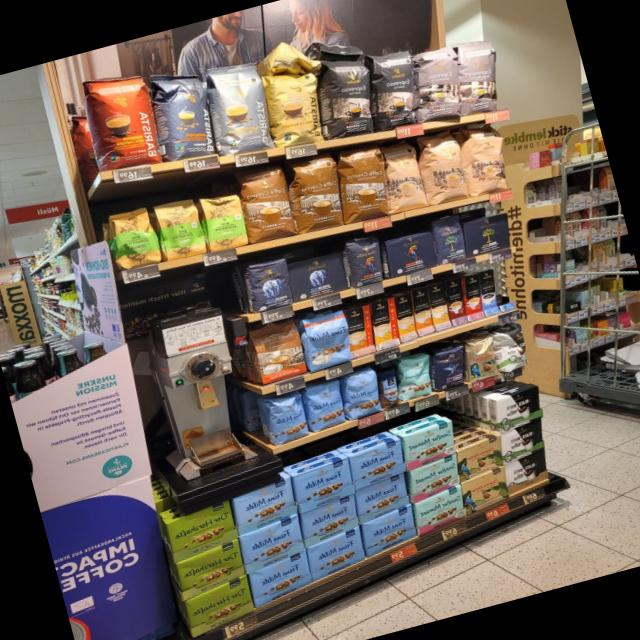AB Bohne: (245, 256, 293, 314)
AB Gemahlen: (287, 249, 348, 303)
Athiopien Bohne: (105, 206, 162, 272)
Athiopien Gemahlen: (154, 196, 208, 262), (197, 188, 250, 252)
BM Bohne: (432, 212, 469, 266)
BM Gemahlen: (463, 211, 511, 258)
BW Bohne: (494, 321, 529, 374)
BW Gemahlen: (496, 384, 541, 433), (500, 417, 545, 466), (504, 449, 548, 495)
Barista CB: (264, 69, 325, 147)
Barista CC: (204, 58, 274, 156)
Barista Espresso: (155, 69, 219, 160)
Barista Kolumbien: (83, 69, 164, 171)
C Fino Bohne: (434, 343, 466, 393)
CC Mild: (415, 128, 472, 204), (459, 120, 510, 195), (381, 136, 430, 214)
CC Vollmundig: (248, 319, 308, 386)
CC Vollmundig 36 Pads: (232, 165, 300, 246), (289, 150, 345, 234), (337, 143, 391, 225)
Colombia BB Bohne: (465, 334, 499, 383)
Colombia BB Gemahlen: (456, 433, 503, 482)
Espresso Aromatisch: (413, 42, 464, 121)
Espresso Kraftig: (319, 57, 377, 138), (366, 47, 419, 131)
Espresso M Art: (456, 37, 500, 115)
FM 36 Pads: (299, 307, 352, 373), (376, 368, 401, 409)
FM Bohne: (265, 391, 311, 447), (301, 377, 346, 433), (342, 366, 384, 422)
FM Gemahlen: (239, 513, 304, 574), (233, 475, 298, 536), (248, 548, 313, 608), (292, 455, 354, 514), (305, 526, 365, 582), (300, 493, 358, 548), (348, 437, 406, 491), (361, 502, 416, 557), (354, 472, 410, 524)
Herzhatfe Mundig: (184, 574, 254, 639), (167, 499, 238, 563), (175, 538, 245, 601)
LG Bohne: (344, 233, 385, 289)
LG Gemahlen: (386, 229, 437, 279)
SM Bohne: (397, 352, 434, 402)
SM Gemahlen: (403, 419, 455, 471), (415, 484, 465, 536), (410, 453, 460, 504), (460, 464, 509, 515)
Simo CCMild: (370, 297, 400, 350)
Simo CCMild bigpack: (393, 292, 417, 342)
Simo CCVollmundig: (344, 304, 374, 357)
Simo CCVollmundig bigpack: (411, 285, 434, 337)
Simo Decaff: (427, 281, 451, 331)
Simo Es Brazil: (463, 273, 484, 321)
Simo Es Caramel: (444, 276, 468, 326)
Simo Es Vanilla: (478, 268, 499, 315)
